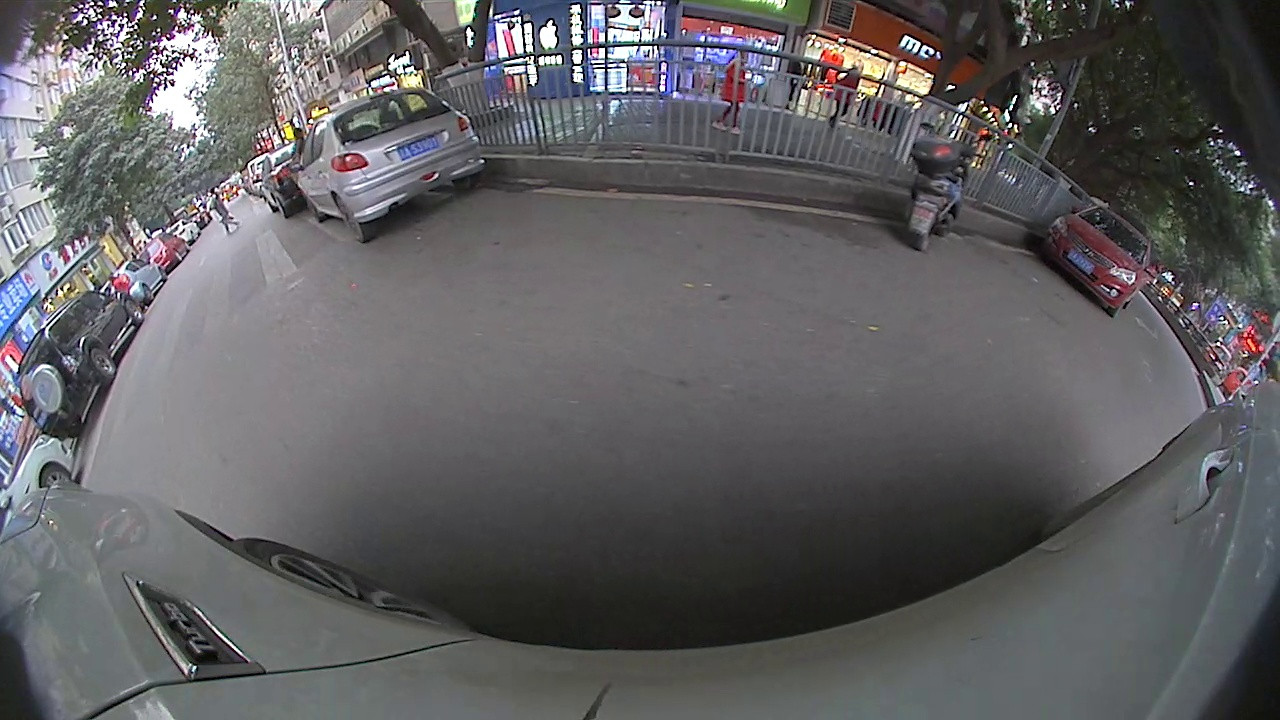car: (212, 98, 380, 202), (1157, 349, 1237, 448), (3, 302, 72, 398), (1117, 273, 1178, 345), (155, 175, 217, 223)
front: (291, 144, 323, 179), (1157, 333, 1172, 348), (179, 193, 191, 210)
rear: (221, 174, 247, 202), (1146, 320, 1160, 336), (158, 209, 171, 224)
